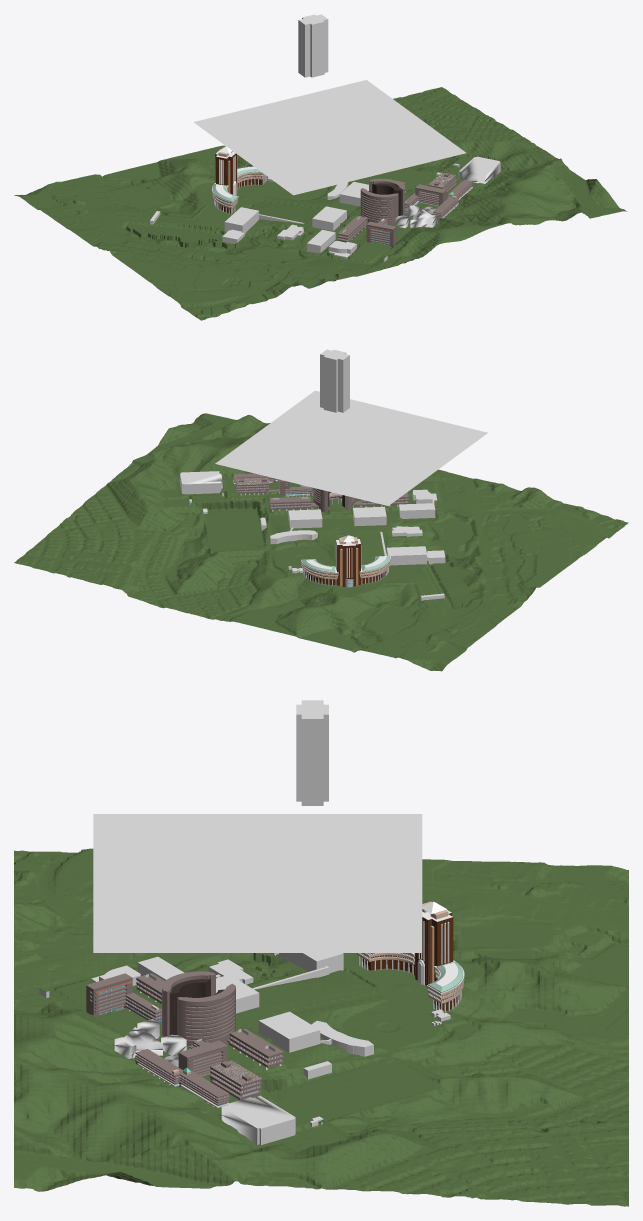
The model's file is マーカーなし!校舎全体図blende20261015.glb.
3 renders of one model, top to bottom at view 1: azimuth 30°, elevation 25°; view 2: azimuth 150°, elevation 25°; view 3: azimuth 270°, elevation 25°, orthographic. The views are drawn at different scales.
Visible parts, largest first — view 1: plate, Plane, kariburokku, Cube, kennkyuutou1, Cube.461, Cube.017, Cube.303, Cube.327, kougitouB1; view 2: plate, Plane, kariburokku, Cube, Cube.017, kennkyuutou1, kougitouA1, Cube.457, Cube.461; view 3: plate, Plane, kariburokku, kennkyuutou1, Cube, Cube.327, Cube.017, Cube.303, Cube.457, Cube.461, kougitouA1.
Boxes of the visible parts, box(x1,y1,x2,y2) form: plate: box(14, 87, 627, 320); Plane: box(193, 80, 466, 195); kariburokku: box(150, 156, 500, 261); Cube: box(298, 14, 328, 77); kennkyuutou1: box(360, 178, 404, 225); Cube.461: box(405, 184, 446, 212); Cube.017: box(215, 149, 237, 194); Cube.303: box(366, 221, 396, 246); Cube.327: box(433, 179, 472, 220); kougitouB1: box(337, 216, 367, 242); plate: box(14, 413, 628, 671); Plane: box(215, 390, 487, 505); kariburokku: box(180, 471, 445, 600); Cube: box(320, 349, 349, 412); Cube.017: box(335, 539, 361, 586); kennkyuutou1: box(313, 488, 356, 512); kougitouA1: box(269, 496, 319, 511); Cube.457: box(235, 477, 269, 495); Cube.461: box(267, 479, 313, 496); plate: box(14, 848, 628, 1206); Plane: box(93, 814, 422, 952); kariburokku: box(39, 953, 450, 1144); kennkyuutou1: box(162, 971, 235, 1047); Cube: box(296, 700, 328, 805); Cube.327: box(135, 1049, 230, 1108); Cube.017: box(414, 909, 453, 985); Cube.303: box(86, 973, 132, 1016); Cube.457: box(209, 1060, 262, 1099); Cube.461: box(178, 1038, 228, 1076); kougitouA1: box(227, 1028, 283, 1070).
Bounding box in the file's own units: 1481 × 667 × 1121.
